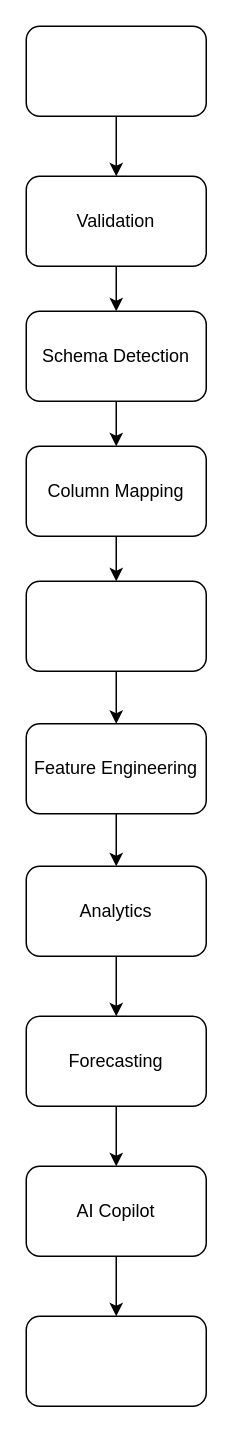
Some shapes in this 233 by 1433 pixel diagram are drawn without their labels. Here are the shapes that lost their labels. From the top down, the centre of each, then its label:
point 115,70: CSV Upload
point 115,625: Data Cleaning
point 115,1360: Dashboard
